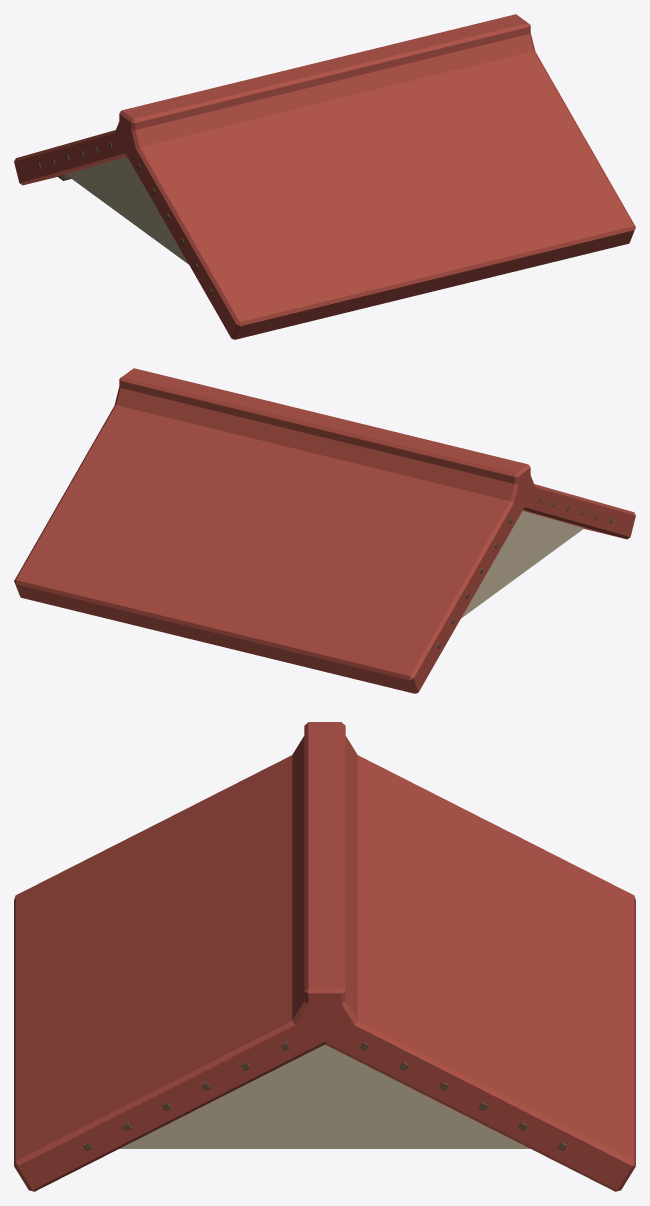
Rendered from architecture-village-ridge.lod0.glb.
3 renders of one model, top to bottom at view 1: azimuth 30°, elevation 25°; view 2: azimuth 150°, elevation 25°; view 3: azimuth 270°, elevation 25°, orthographic. The views are drawn at different scales.
Visible parts, largest first — view 1: architecture-village-ridge__body; view 2: architecture-village-ridge__body; view 3: architecture-village-ridge__body.
Part boxes in pixels (left/top/right/bottom): architecture-village-ridge__body: left=14, top=14, right=635, bottom=339; architecture-village-ridge__body: left=14, top=368, right=635, bottom=693; architecture-village-ridge__body: left=14, top=722, right=635, bottom=1191.
Size of the model in its own units: 2.31 by 0.8125 by 2.25.
